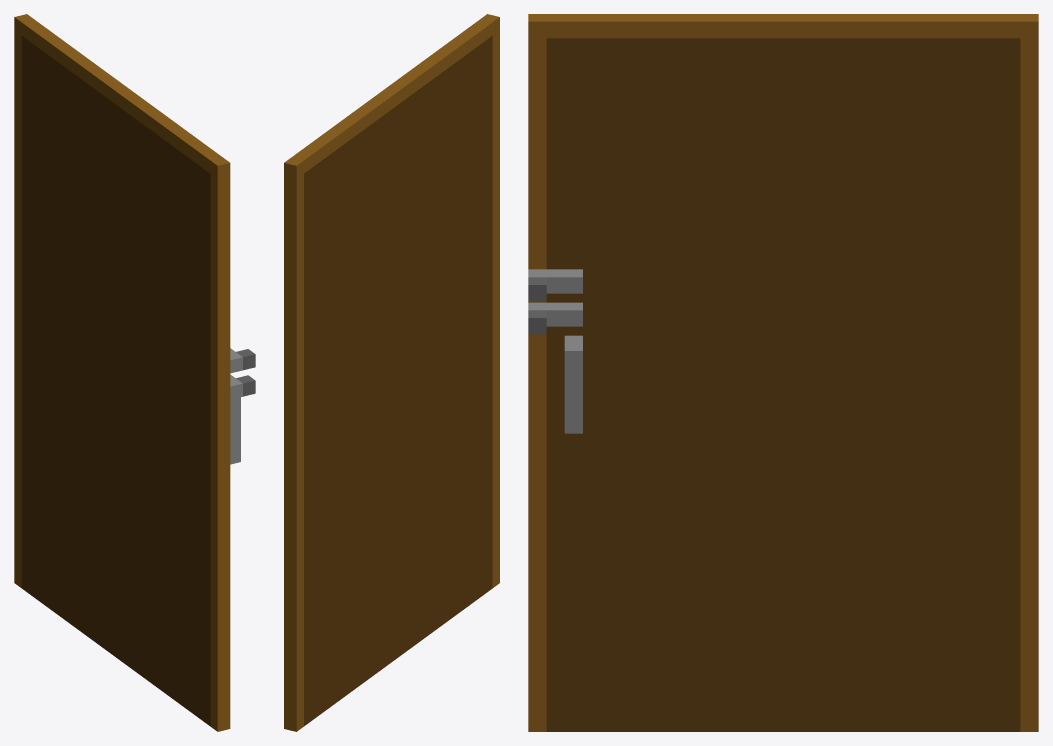
Rendered from Door-0-Door.obj.
The picture shows the model from 3 angles, left to right: view 1: azimuth 30°, elevation 25°; view 2: azimuth 150°, elevation 25°; view 3: azimuth 270°, elevation 25°; orthographic projection. The views are drawn at different scales.
Parts seen in each view (by area): view 1: Door; view 2: Door; view 3: Door.
Part boxes in pixels (x1,y1,x2,y2): Door: [14, 14, 255, 731]; Door: [284, 14, 499, 731]; Door: [528, 14, 1038, 731].
Size of the model in its own units: 0.3 by 4.3 by 2.8.
1 material, 1 textured.
